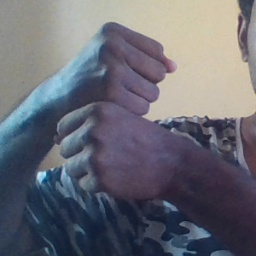G: (57, 17, 178, 203)
